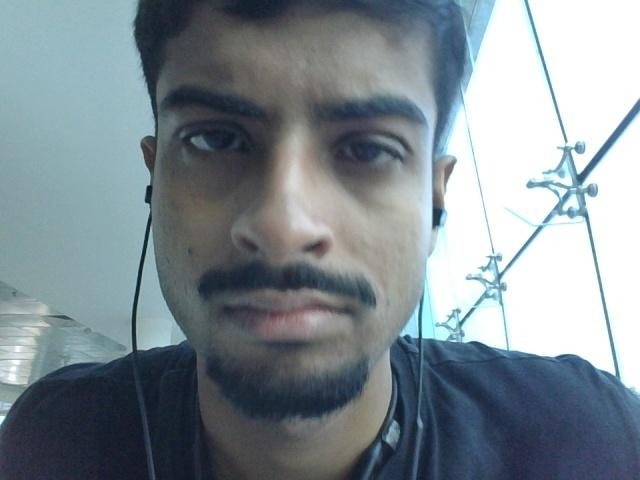confident: (103, 3, 511, 406)
